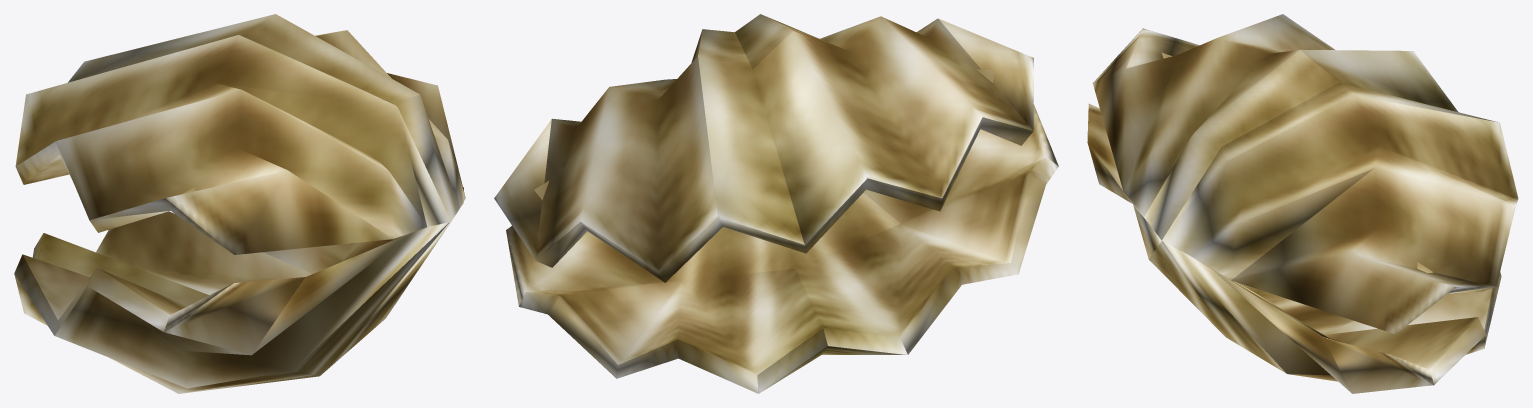
The model's file is SMSH_Shell_1.FBX.
3 renders of one model, left to right at view 1: azimuth 30°, elevation 25°; view 2: azimuth 150°, elevation 25°; view 3: azimuth 270°, elevation 25°, orthographic. The views are drawn at different scales.
Parts seen in each view (by area): view 1: Ytlds_Shell_1; view 2: Ytlds_Shell_1; view 3: Ytlds_Shell_1.
Part boxes in pixels (x1=…): Ytlds_Shell_1: x1=14, y1=14, x2=465, y2=393; Ytlds_Shell_1: x1=494, y1=14, x2=1058, y2=393; Ytlds_Shell_1: x1=1087, y1=14, x2=1518, y2=393.
Size of the model in its own units: 136 by 97.64 by 127.
